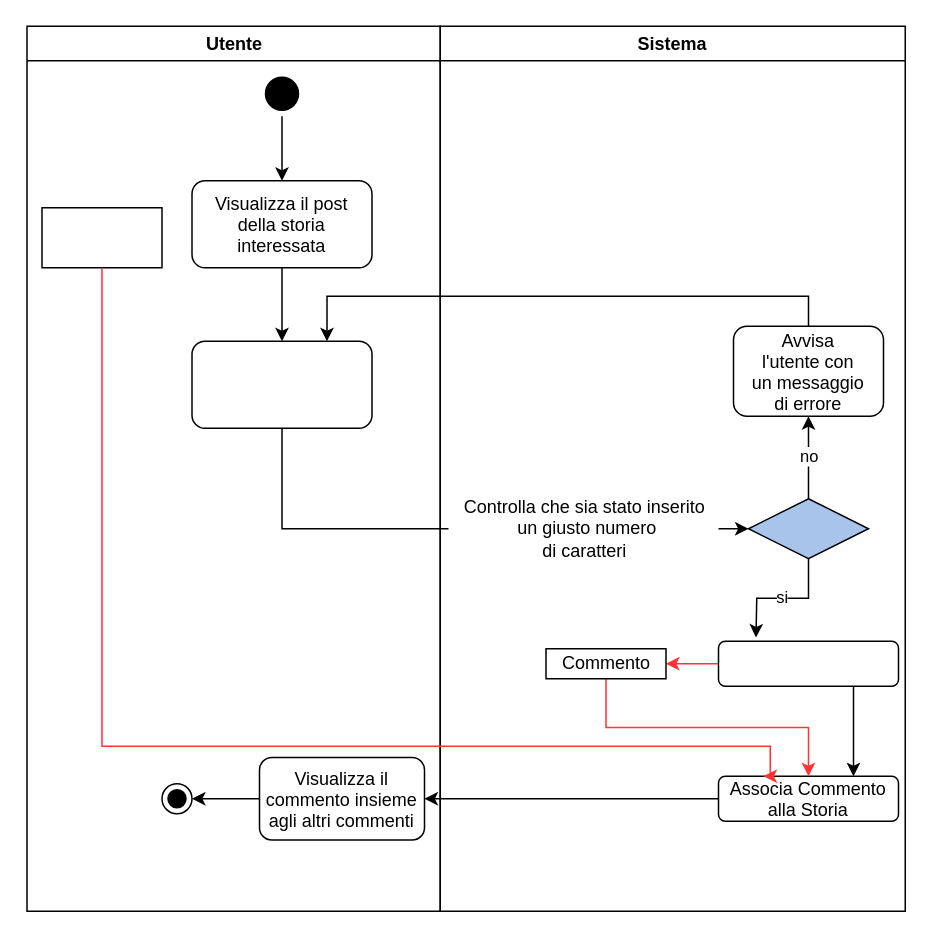
Image size: 932x938. Some labels were removed from this diagram. The centre of each missing label's shape, as x and y in pixels:
Compila il form per la pubblicazione del commento: [281,384]
Crea Commento: [807,663]
Storia [visualizzata]: [101,237]
